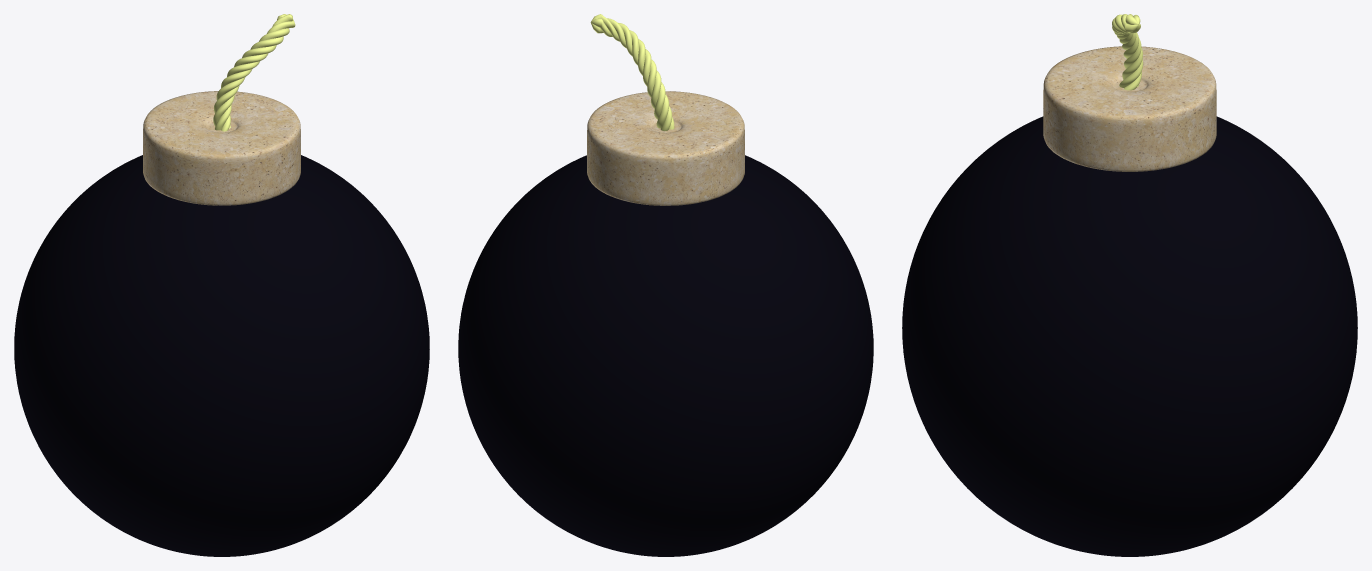
File: Bomba.glb
3 renders of one model, left to right at view 1: azimuth 30°, elevation 25°; view 2: azimuth 150°, elevation 25°; view 3: azimuth 270°, elevation 25°, orthographic. The views are drawn at different scales.
Visible parts, largest first — view 1: Sphere, Cylinder, Circle; view 2: Sphere, Cylinder, Circle; view 3: Sphere, Cylinder, Circle.
Part boxes in pixels (x1,y1,x2,y2): Sphere: (14, 155, 429, 556); Cylinder: (143, 91, 300, 205); Circle: (213, 14, 295, 131); Sphere: (458, 155, 873, 556); Cylinder: (587, 91, 744, 205); Circle: (590, 14, 674, 131); Sphere: (902, 116, 1357, 556); Cylinder: (1043, 46, 1216, 171); Circle: (1112, 14, 1143, 90).
Size of the model in its own units: 198 by 265 by 198.
Materials: 3 (1 with a texture image).
